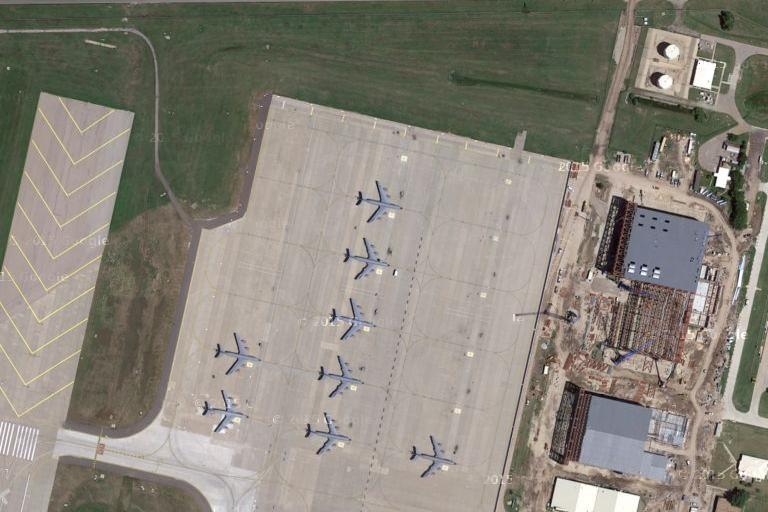KC-135: (405, 431, 462, 482), (301, 409, 354, 459), (339, 235, 392, 282), (313, 354, 365, 400), (327, 294, 374, 343), (213, 332, 263, 378), (356, 177, 401, 226), (201, 389, 245, 436)
